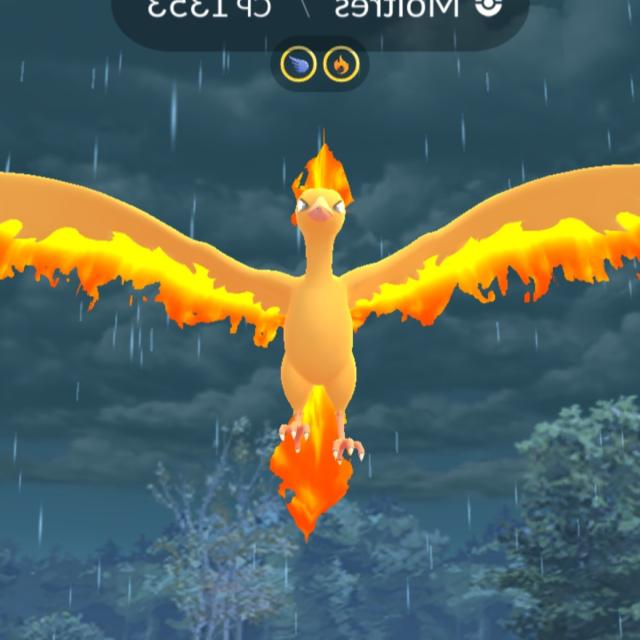Moltres: (124, 151, 527, 417)
